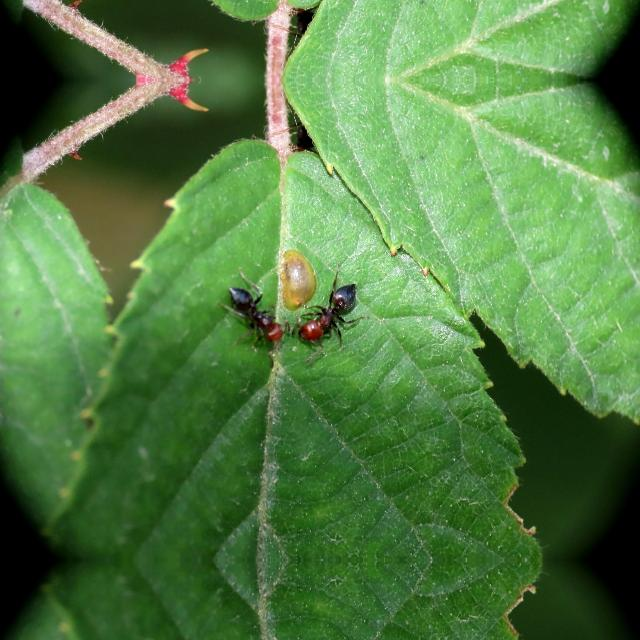Crematogaster: (294, 279, 366, 353), (224, 280, 284, 354)
